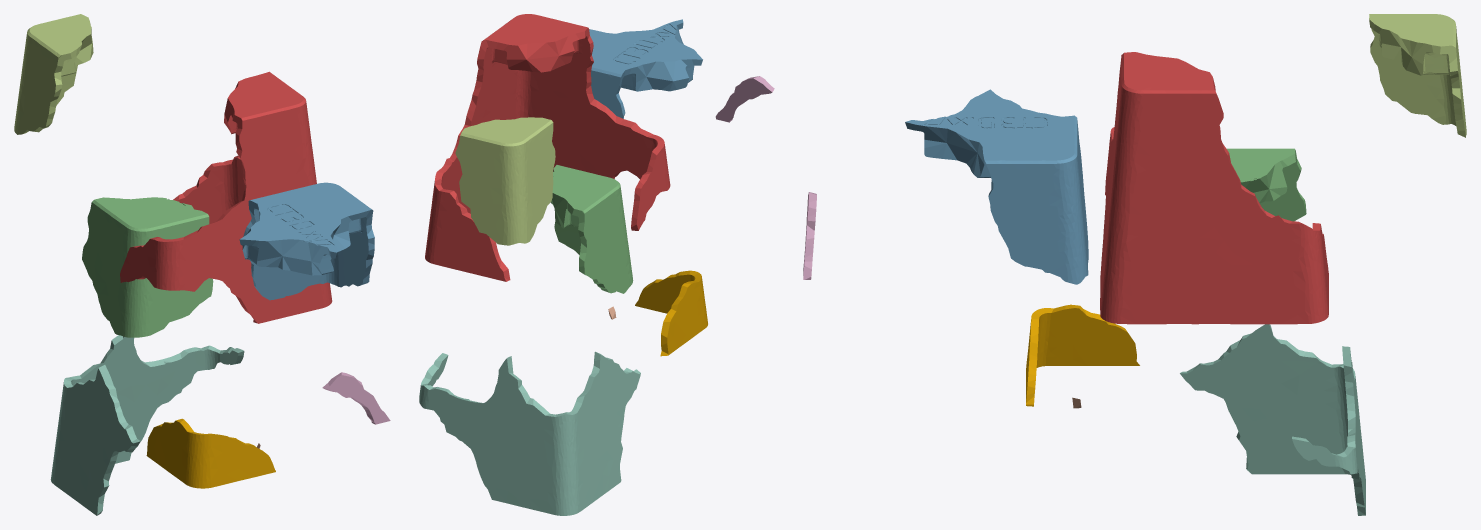
File: mode_9_8pcs_transformed.glb
3 views of the same model, side by side, from view 1: azimuth 30°, elevation 25°; view 2: azimuth 150°, elevation 25°; view 3: azimuth 270°, elevation 25° (orthographic). The views are drawn at different scales.
Visible parts, largest first — view 1: piece_1.obj, piece_4.obj, piece_2.obj, piece_3.obj, piece_5.obj, piece_0.obj, piece_6.obj; view 2: piece_1.obj, piece_4.obj, piece_5.obj, piece_3.obj, piece_2.obj, piece_0.obj, piece_6.obj; view 3: piece_1.obj, piece_2.obj, piece_4.obj, piece_5.obj, piece_0.obj, piece_3.obj, piece_6.obj.
Part boxes in pixels (left/top/right/bottom): piece_1.obj: left=120, top=71, right=332, bottom=323; piece_4.obj: left=50, top=335, right=244, bottom=515; piece_2.obj: left=239, top=182, right=374, bottom=300; piece_3.obj: left=82, top=197, right=213, bottom=337; piece_5.obj: left=14, top=14, right=93, bottom=134; piece_0.obj: left=146, top=418, right=275, bottom=488; piece_6.obj: left=322, top=372, right=390, bottom=424; piece_1.obj: left=425, top=14, right=670, bottom=281; piece_4.obj: left=419, top=351, right=640, bottom=515; piece_5.obj: left=455, top=117, right=555, bottom=245; piece_3.obj: left=550, top=165, right=633, bottom=293; piece_2.obj: left=589, top=19, right=702, bottom=118; piece_0.obj: left=635, top=270, right=707, bottom=356; piece_6.obj: left=715, top=76, right=774, bottom=122; piece_1.obj: left=1100, top=52, right=1328, bottom=324; piece_2.obj: left=905, top=89, right=1088, bottom=284; piece_4.obj: left=1180, top=324, right=1365, bottom=515; piece_5.obj: left=1369, top=14, right=1466, bottom=137; piece_0.obj: left=1026, top=304, right=1139, bottom=406; piece_3.obj: left=1227, top=148, right=1306, bottom=221; piece_6.obj: left=803, top=192, right=816, bottom=279.
Bounding box in the file's own units: 0.9245 × 2.08 × 2.68.
